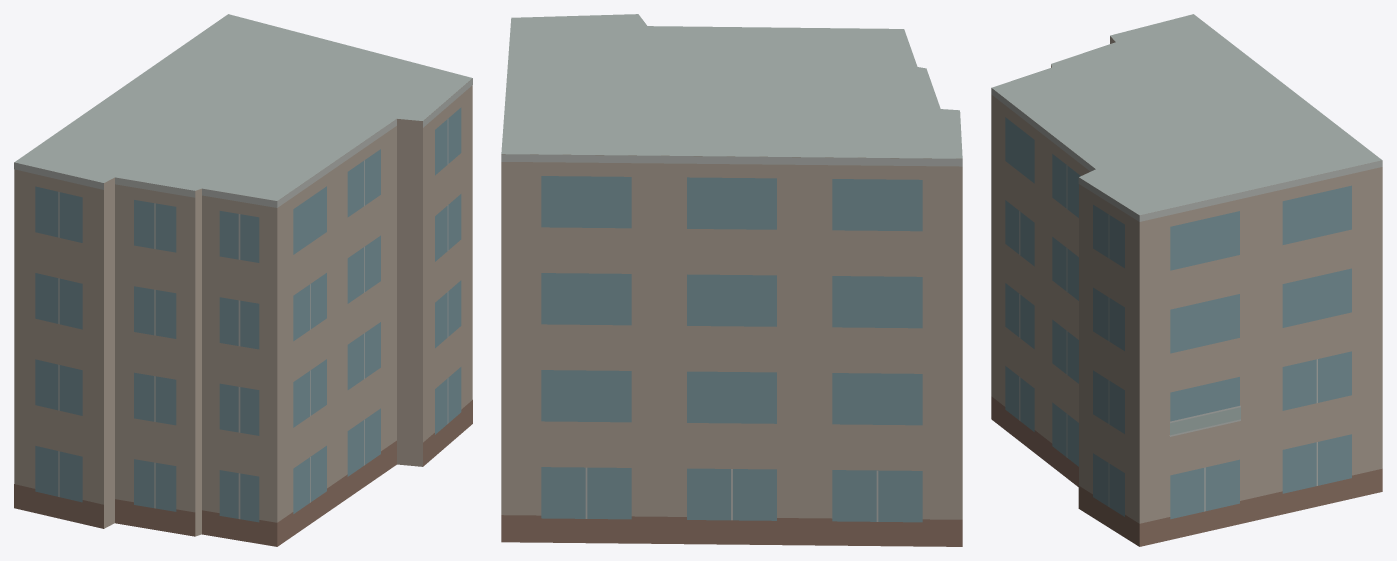
File: survey-upis-32659102.glb
3 views of the same model, side by side, from view 1: azimuth 30°, elevation 25°; view 2: azimuth 150°, elevation 25°; view 3: azimuth 270°, elevation 25° (orthographic). The views are drawn at different scales.
Parts seen in each view (by area): view 1: survey-upis-32659102.tmp; view 2: survey-upis-32659102.tmp; view 3: survey-upis-32659102.tmp.
Part boxes in pixels (box(x1,y1,x2,y2)): survey-upis-32659102.tmp: box(14, 14, 472, 546); survey-upis-32659102.tmp: box(501, 14, 962, 546); survey-upis-32659102.tmp: box(991, 14, 1382, 546).
Bounding box in the file's own units: 15.9 × 12.2 × 13.05.
